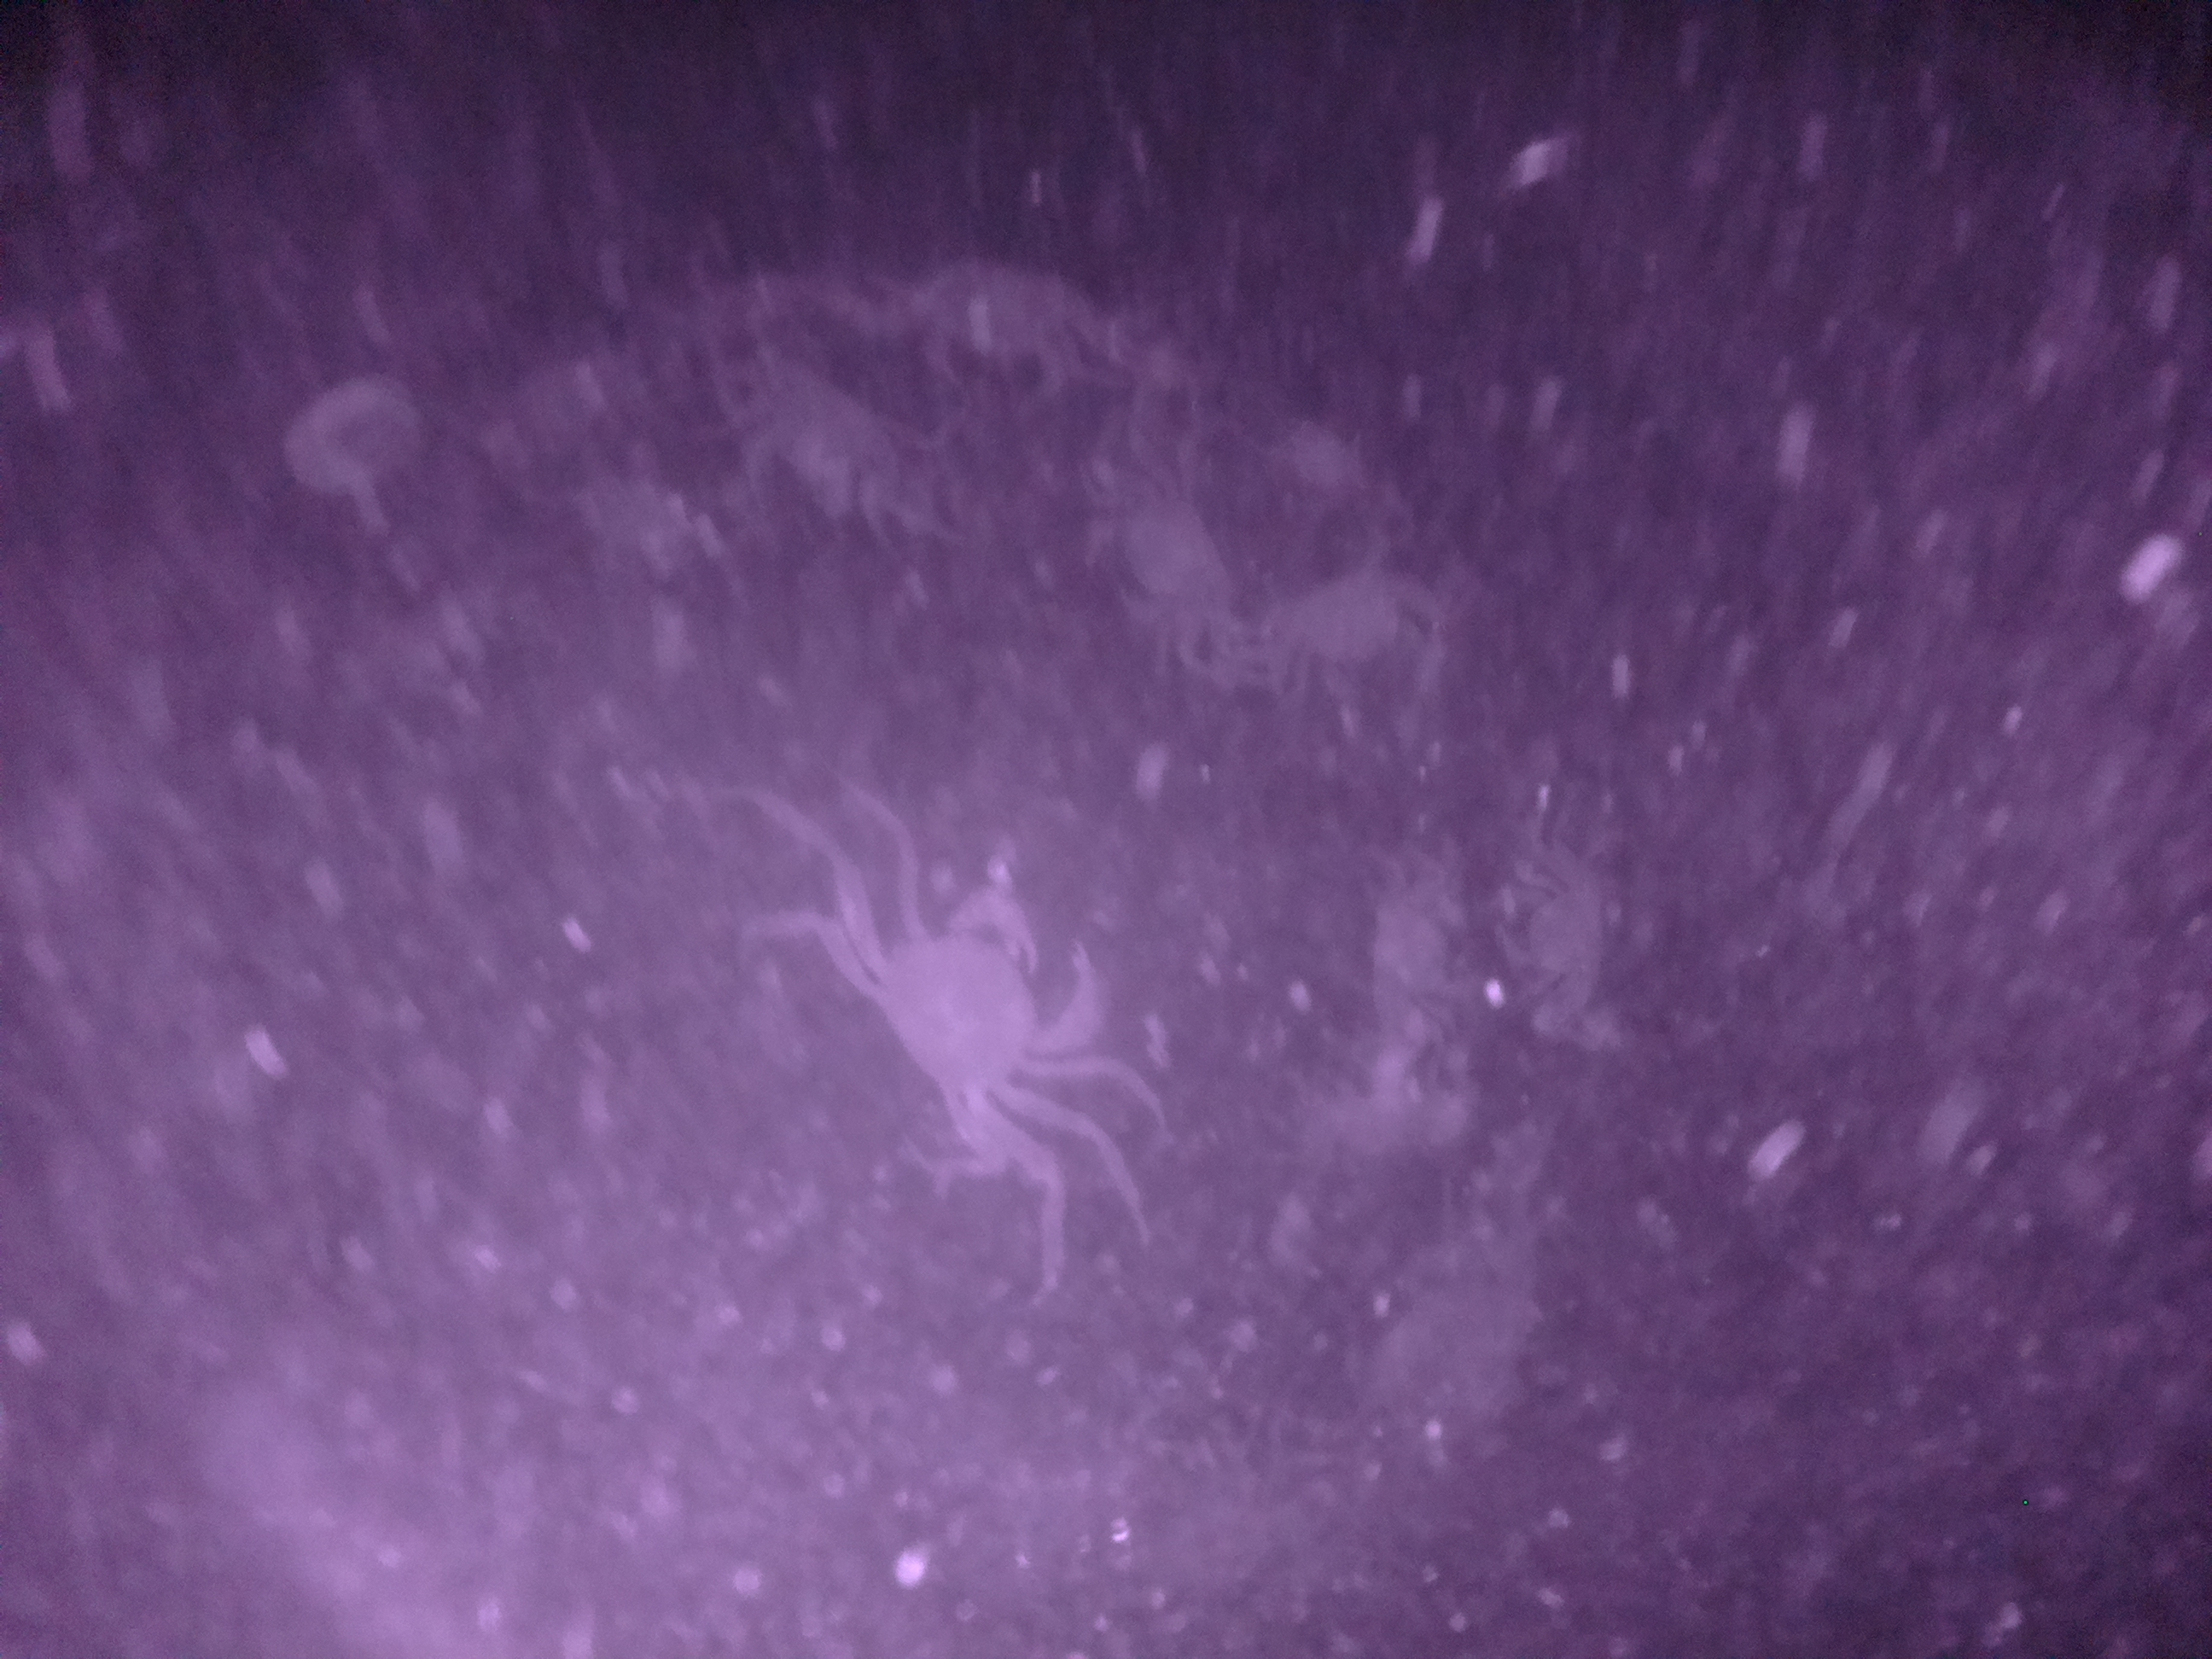Crab: (841, 847, 1129, 1150), (1076, 464, 1238, 641)
